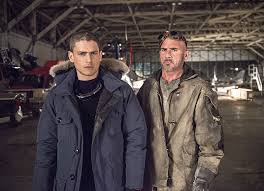Bad: (36, 30, 223, 191)
